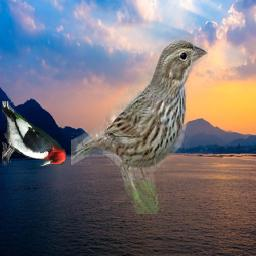Sparrow: (72, 34, 209, 215)
Woodpecker: (2, 102, 66, 167)
